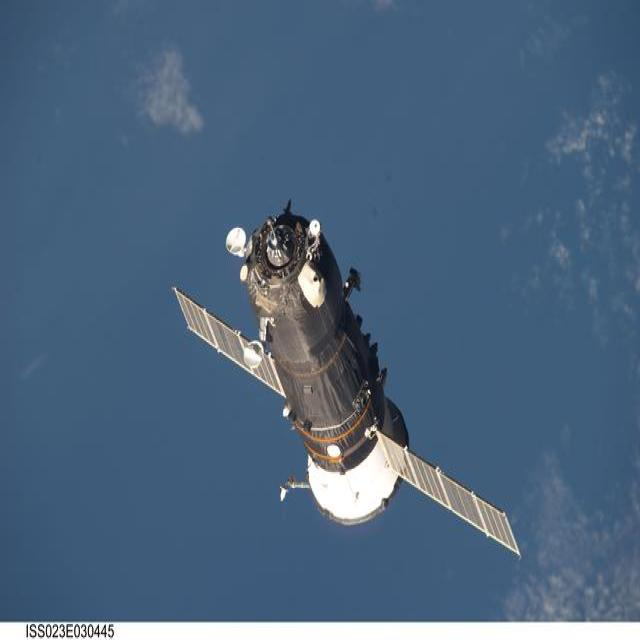medium_debris: (175, 203, 519, 554)
